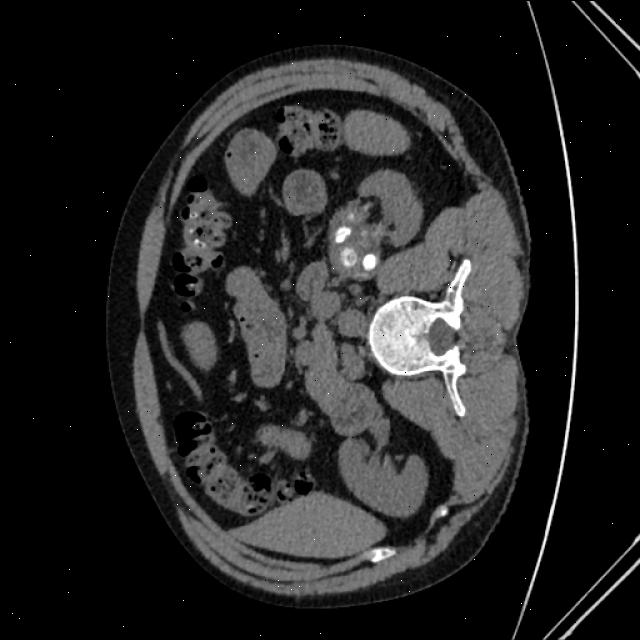kidneystone: (330, 212, 352, 248), (342, 248, 357, 265), (364, 252, 377, 269)
